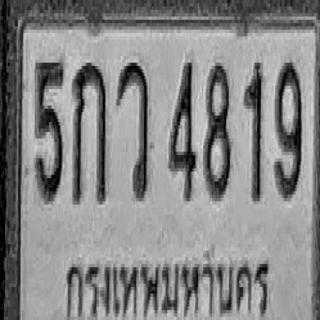A01: (73, 58, 106, 203)
A37: (116, 60, 148, 198)
N01: (244, 59, 263, 201)
N04: (169, 58, 196, 200)
N05: (35, 59, 64, 201)
N08: (204, 60, 231, 198)
N09: (274, 60, 301, 198)
P04: (59, 234, 273, 320)
